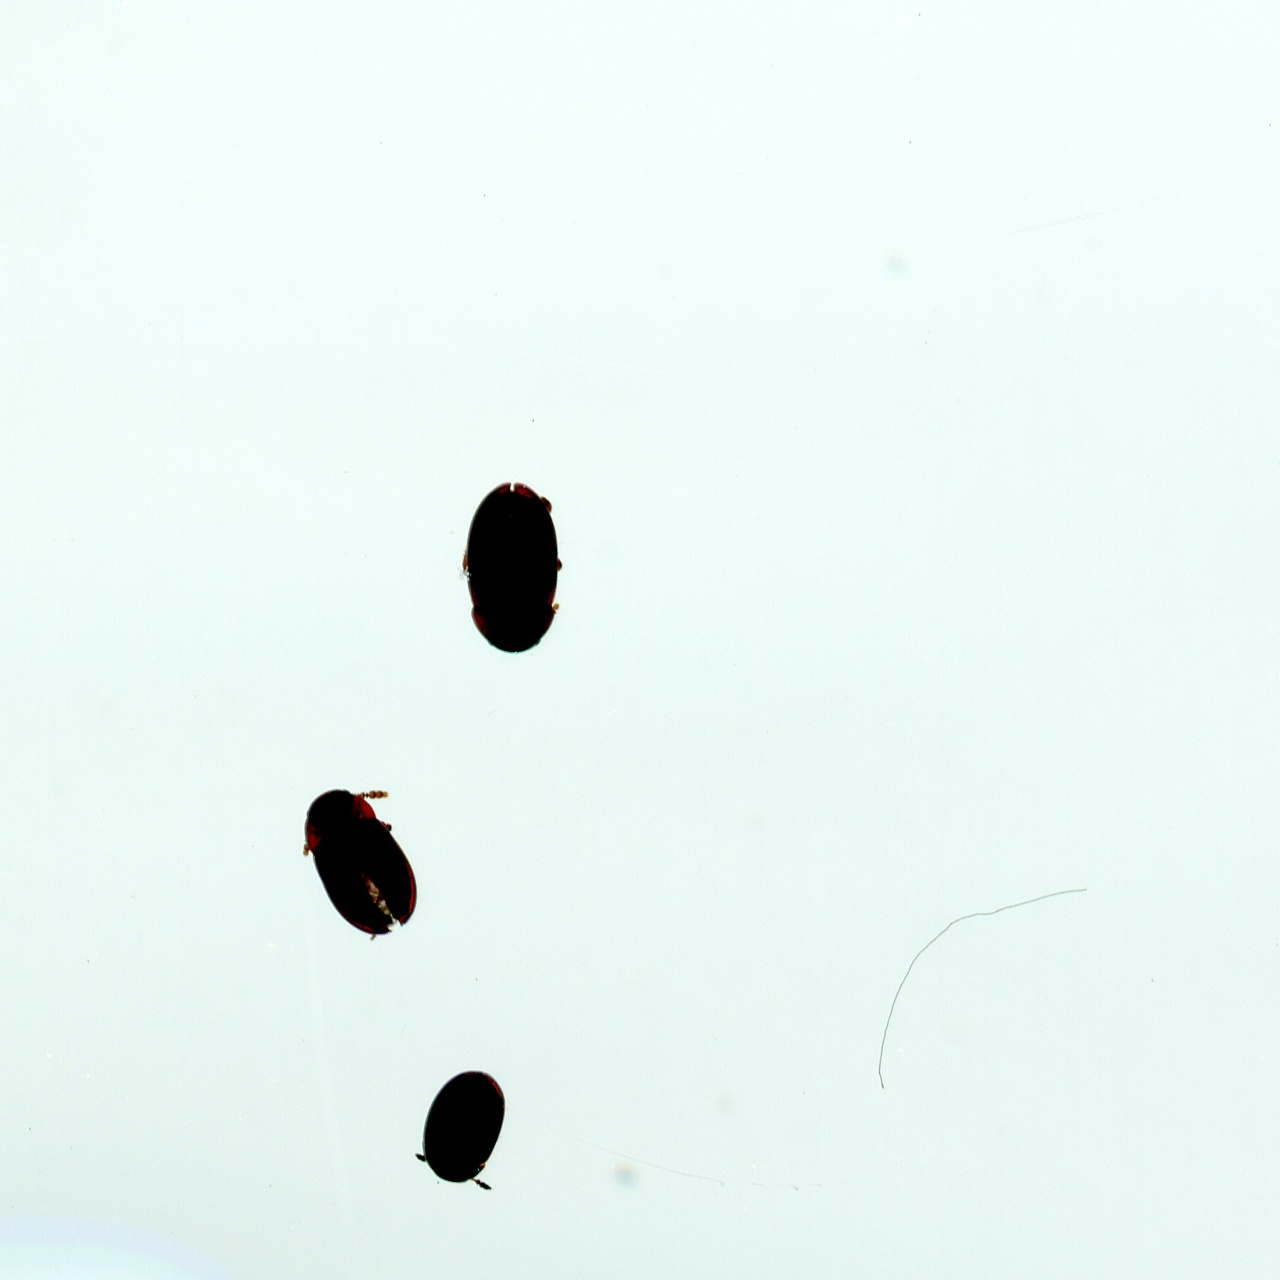arthropod: (304, 781, 422, 946), (458, 482, 570, 655), (417, 1070, 508, 1189)
